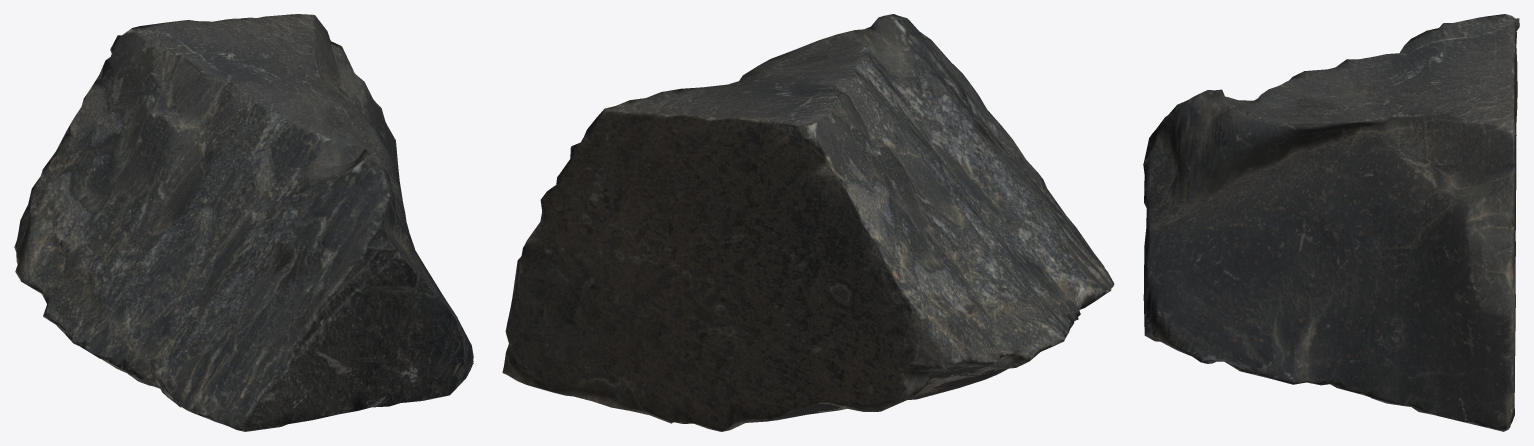
Rendered from SM_wfxlbah_tier_2.gltf.
3 views of the same model, side by side, from view 1: azimuth 30°, elevation 25°; view 2: azimuth 150°, elevation 25°; view 3: azimuth 270°, elevation 25° (orthographic). The views are drawn at different scales.
Parts seen in each view (by area): view 1: wfxlbah_LOD2_TIER2_000; view 2: wfxlbah_LOD2_TIER2_000; view 3: wfxlbah_LOD2_TIER2_000.
Boxes of the visible parts, x1=… form: wfxlbah_LOD2_TIER2_000: x1=14, y1=14, x2=473, y2=431; wfxlbah_LOD2_TIER2_000: x1=502, y1=14, x2=1114, y2=431; wfxlbah_LOD2_TIER2_000: x1=1143, y1=14, x2=1519, y2=431.
Size of the model in its own units: 0.5333 by 0.3624 by 0.4239.
Materials: 1 (1 with a texture image).
